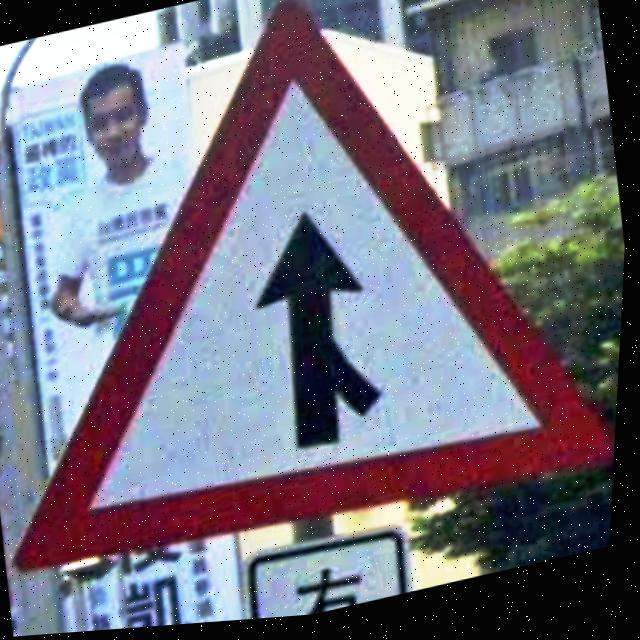rightmerge: (20, 5, 620, 575)
